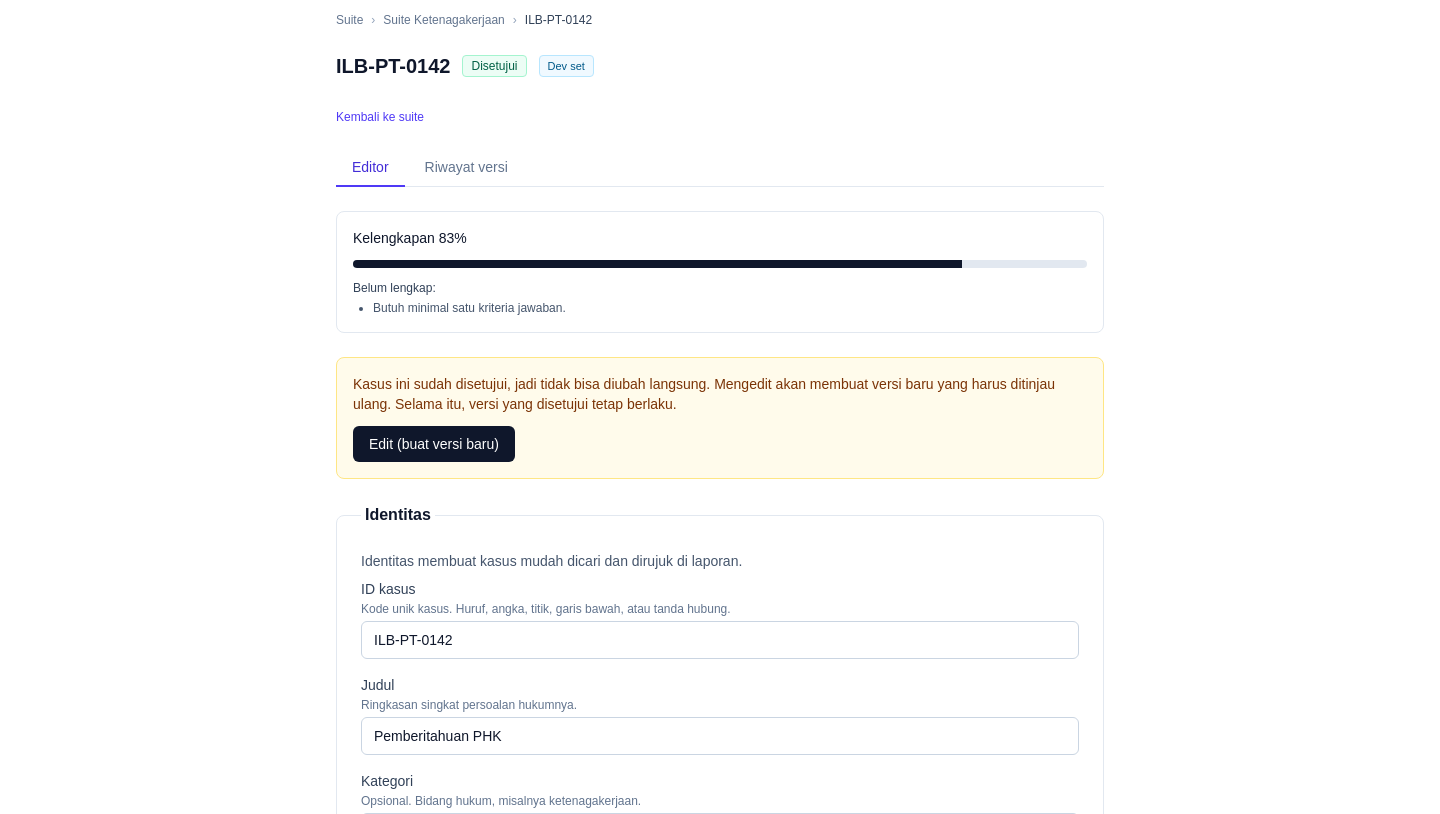
Test: EditCasePage locked versions (SCRUM-138) › fills the editor from the new draft, not from the approved case, and unlocks it
Expected: the element named "Versi terkunci" is shown, [336,357,1104,479]
Click the button "Edit (buat versi baru)".
click(434, 444)  # box [353,426,515,462]
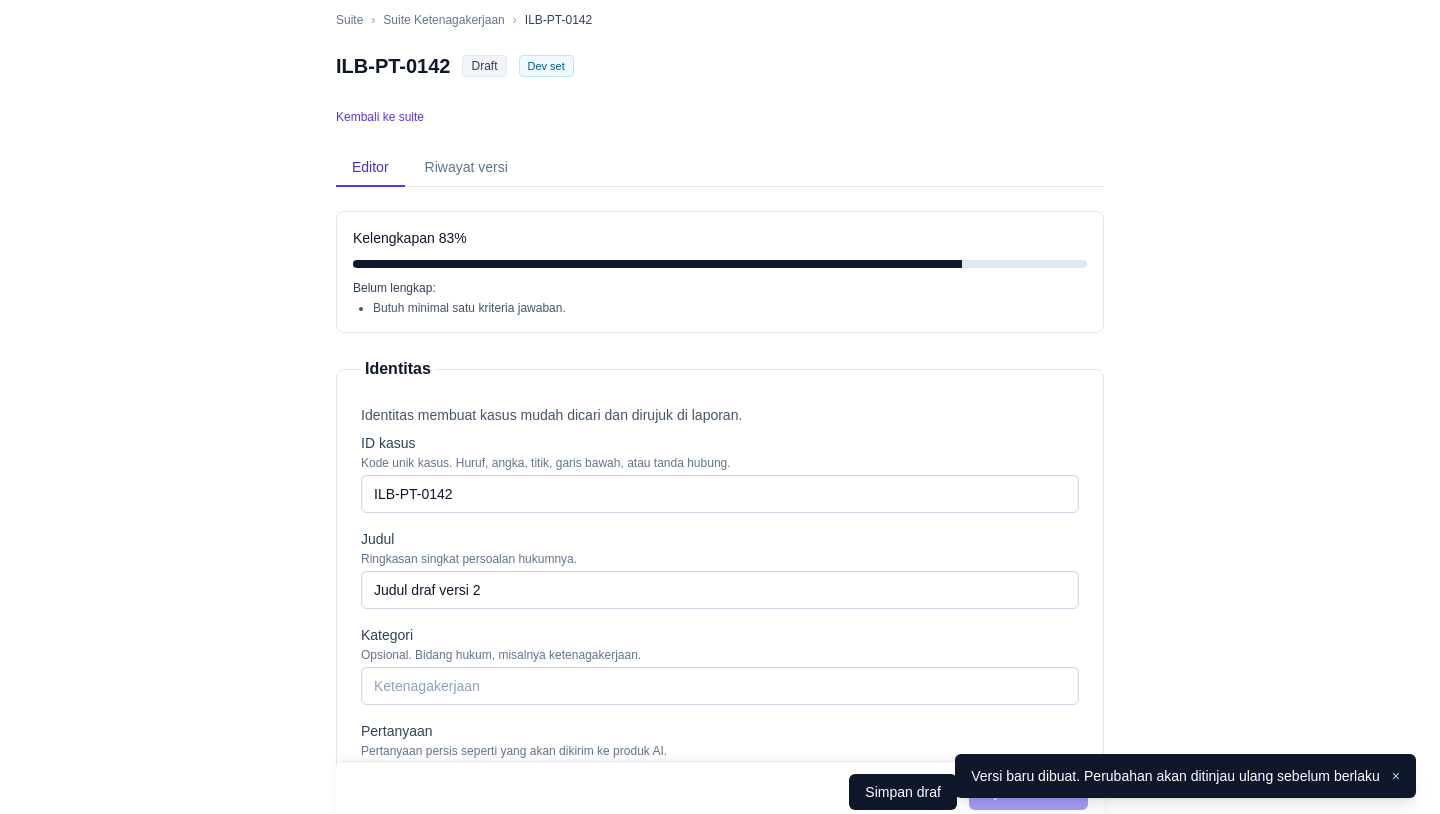
Now the field labelled "Judul" holds "Judul draf versi 2", box [361,571,1079,609]
Now the field labelled "Judul" is enabled, box [361,571,1079,609]
Now the text "Draft" is shown, box [462,55,506,77]
